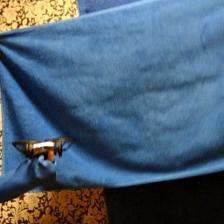drone: (12, 136, 76, 162)
